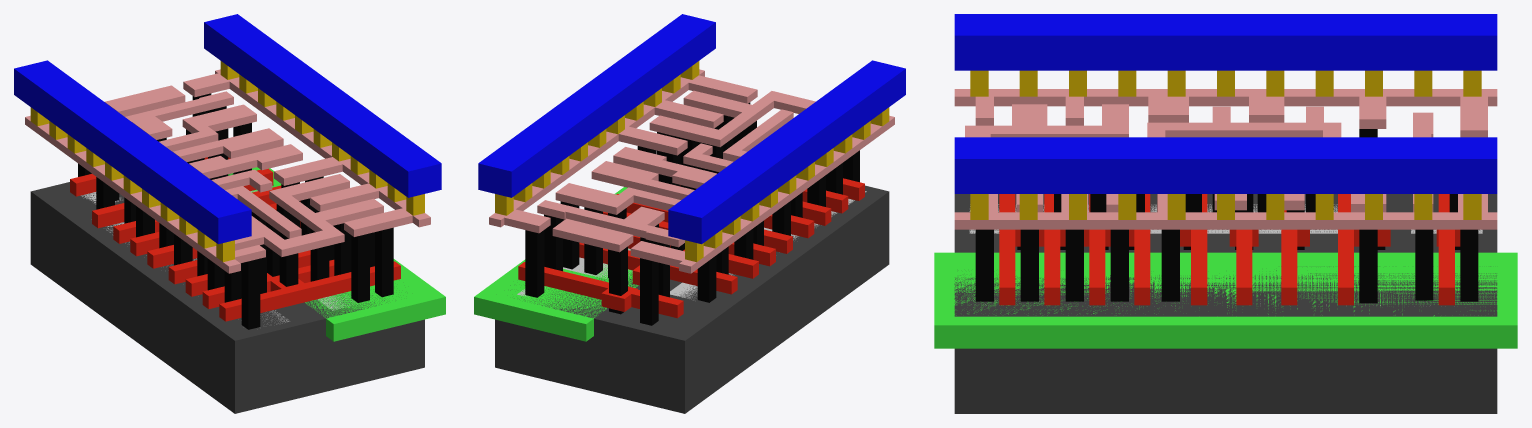
The model's file is sky130_fd_sc_hd__or4b_4.obj.
3 views of the same model, side by side, from view 1: azimuth 30°, elevation 25°; view 2: azimuth 150°, elevation 25°; view 3: azimuth 270°, elevation 25° (orthographic). The views are drawn at different scales.
Parts seen in each view (by area): view 1: subs, metal1, li, licon, poly, nwell, mcon; view 2: subs, metal1, li, licon, poly, nwell, mcon, diff; view 3: metal1, subs, nwell, li, poly, licon, mcon, diff.
Boxes of the visible parts, bbox=[...] form: subs: bbox=[30, 173, 424, 413]; metal1: bbox=[14, 14, 441, 244]; li: bbox=[25, 69, 430, 273]; licon: bbox=[78, 93, 393, 329]; poly: bbox=[70, 157, 400, 321]; nwell: bbox=[228, 167, 445, 341]; mcon: bbox=[30, 61, 424, 262]; subs: bbox=[495, 185, 889, 413]; metal1: bbox=[478, 14, 905, 244]; li: bbox=[489, 69, 894, 273]; licon: bbox=[525, 102, 859, 325]; poly: bbox=[518, 178, 864, 318]; nwell: bbox=[474, 187, 638, 341]; mcon: bbox=[495, 61, 889, 262]; diff: bbox=[670, 191, 866, 300]; metal1: bbox=[954, 14, 1497, 193]; subs: bbox=[954, 194, 1497, 413]; nwell: bbox=[934, 252, 1517, 348]; li: bbox=[954, 89, 1497, 229]; poly: bbox=[999, 194, 1460, 305]; licon: bbox=[975, 129, 1478, 303]; mcon: bbox=[970, 70, 1481, 219]; diff: bbox=[969, 204, 1482, 233].
Size of the model in its own units: 3.2 by 2.74 by 5.44.
